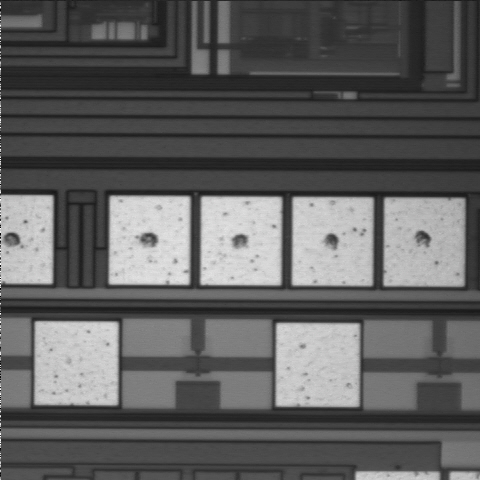pad: (109, 196, 190, 285), (201, 197, 281, 285), (292, 198, 372, 285), (35, 322, 118, 405), (276, 323, 359, 406), (384, 199, 463, 286)
